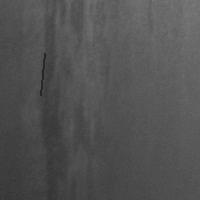inclusion: (39, 1, 92, 197), (38, 51, 46, 97)
